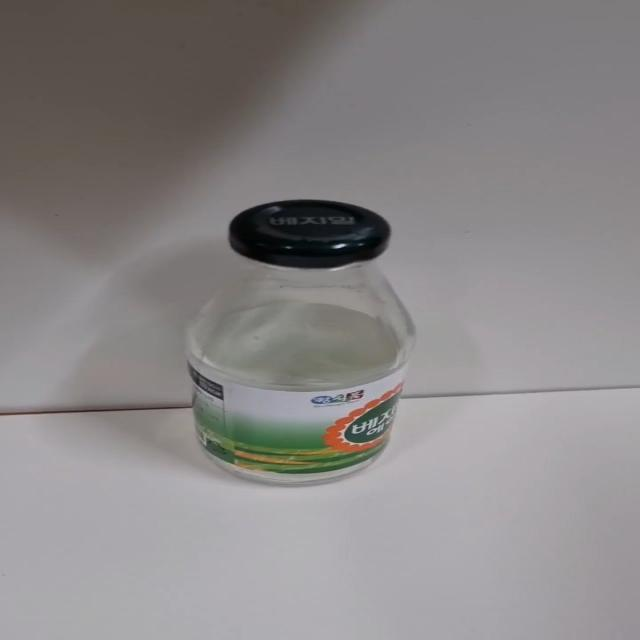Glass: (175, 195, 427, 492)
